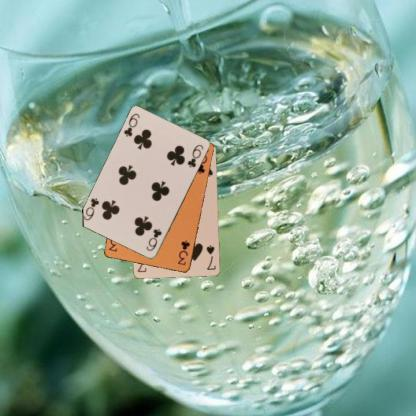3c: (175, 238, 191, 266)
6c: (121, 111, 141, 138), (144, 226, 163, 252)
7s: (204, 242, 217, 272)
